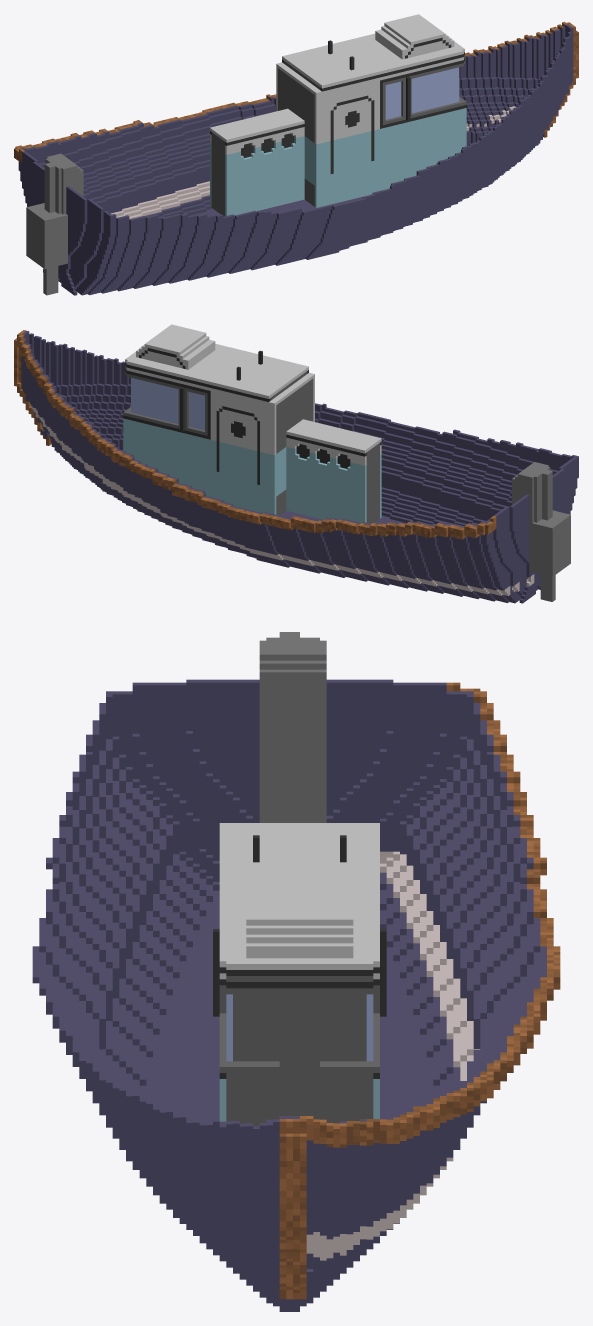
The model's file is Boat.obj.
3 views of the same model, one above another, from view 1: azimuth 30°, elevation 25°; view 2: azimuth 150°, elevation 25°; view 3: azimuth 270°, elevation 25° (orthographic). The views are drawn at different scales.
Size of the model in its own units: 18.7 by 5.7 by 7.9.
1 material, 1 textured.
